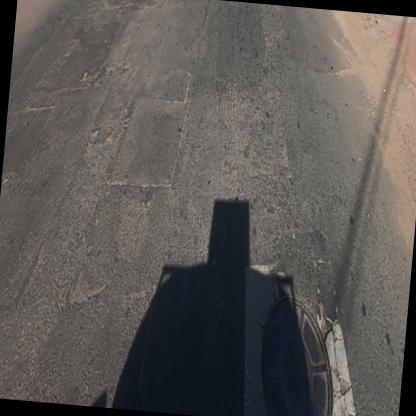manholes: (251, 273, 352, 416)
